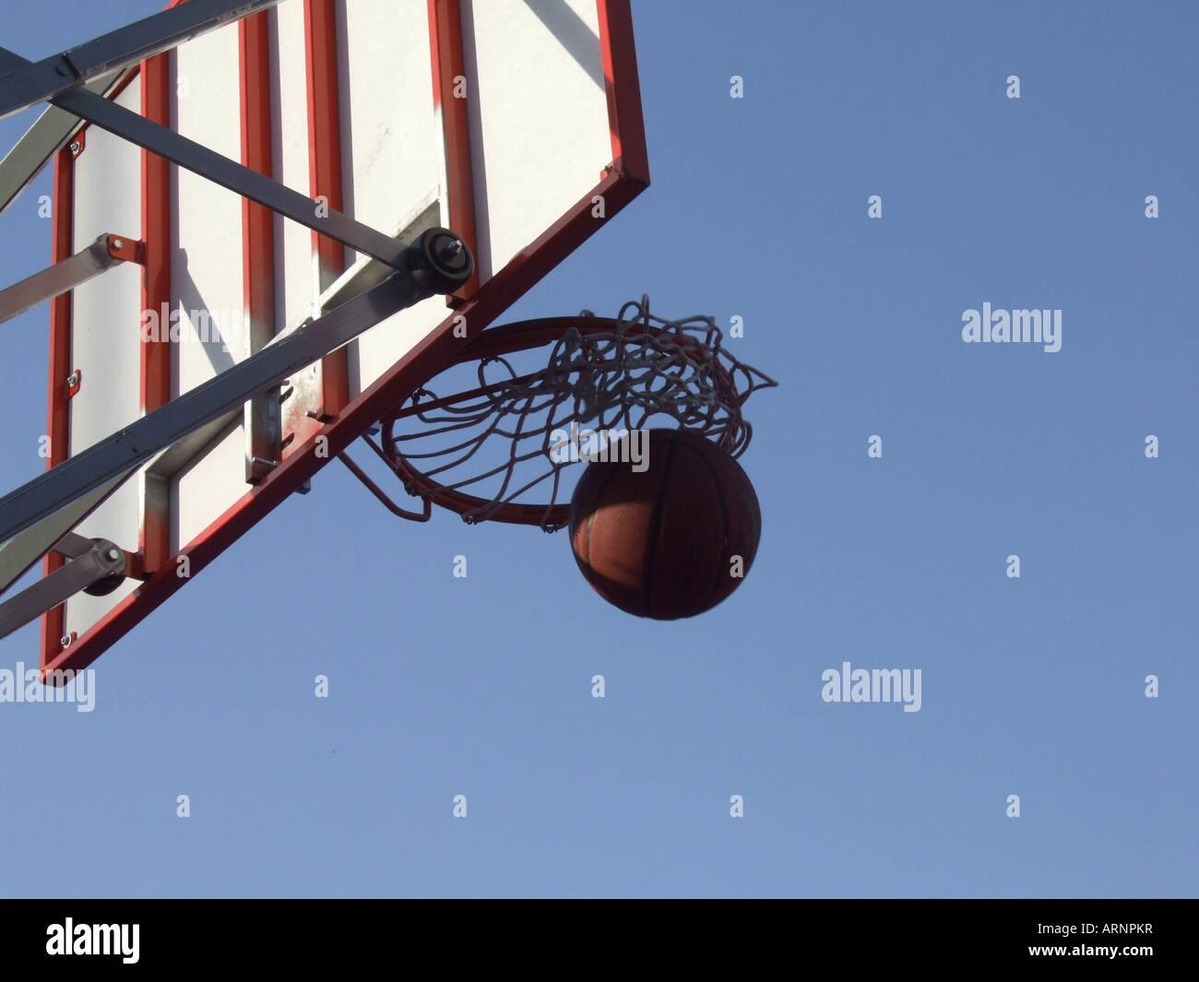basketball: (573, 429, 763, 623)
